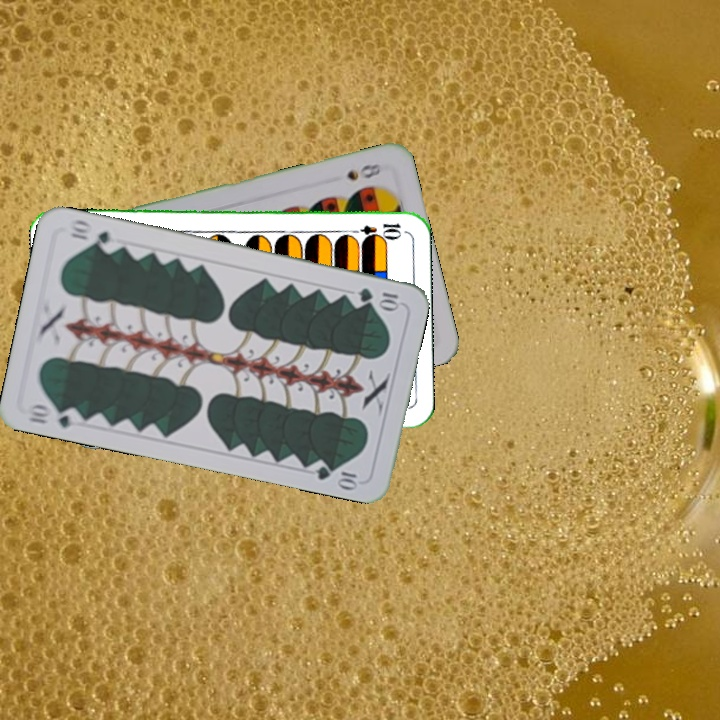E10: (345, 219, 404, 238)
G10: (23, 400, 83, 431), (354, 284, 403, 311)
S8: (343, 159, 386, 183)
